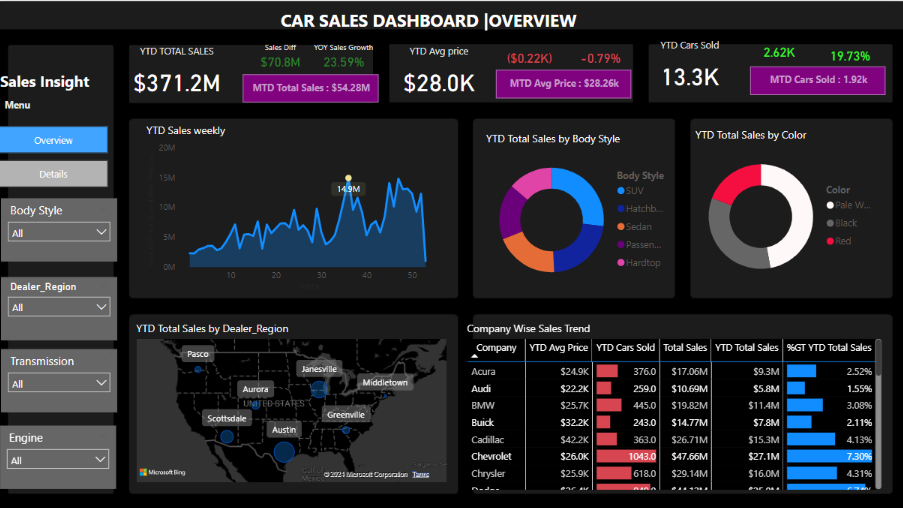

This screenshot's page, from the dashboard's own definition file:
{"tool":"powerbi","page":{"name":"Overview","canvas":[1280,720],"ordinal":0},"visuals":[{"type":"card","title":"YTD TOTAL SALES","fields":{"Values":["All formulas.YTD Total Sales"]},"box":[177.6,60.5,153.1,85],"z":0},{"type":"card","title":"Sales Diff","fields":{"Values":["All formulas.Sales Difference"]},"box":[359.1,56.7,83.2,39.7],"z":1000},{"type":"card","title":"YOY Sales Growth","fields":{"Values":["All formulas.YoY Sales Growth"]},"box":[441.8,57.1,96.7,38.5],"z":2000},{"type":"card","fields":{"Values":["All formulas.MTD KPI"]},"box":[347.3,103.3,191.2,39.6],"z":3000},{"type":"card","title":"YTD Avg price","fields":{"Values":["All formulas.YTD Avg Price"]},"box":[548,60.5,153.1,85],"z":4000},{"type":"card","title":"Sales Diff","fields":{"Values":["All formulas.Avg Price Diff"]},"box":[701.1,60.5,100.2,39.7],"z":5000},{"type":"card","title":"Sales Diff","fields":{"Values":["All formulas.Yoy Avg Price Growth"]},"box":[801.3,60.5,100.2,39.7],"z":6000},{"type":"card","fields":{"Values":["All formulas.MTD AVG KPI"]},"box":[704.9,96.4,190.9,39.7],"z":7000},{"type":"card","title":"YTD Cars Sold","fields":{"Values":["All formulas.YTD Cars Sold"]},"box":[901.4,52.9,153.1,85],"z":8000},{"type":"card","title":"Sales Diff","fields":{"Values":["All formulas.Car Sold Diff"]},"box":[1054.5,52.9,100.2,39.7],"z":9000},{"type":"card","title":"Sales Diff","fields":{"Values":["All formulas.Yoy Car Sold Growth"]},"box":[1154.7,56.7,100.2,39.7],"z":10000},{"type":"card","fields":{"Values":["All formulas.MTD Car Sold KPI"]},"box":[1063.9,92.6,190.9,39.7],"z":11000},{"type":"areaChart","title":"YTD Sales weekly","fields":{"Category":["Calendar Table.WEEK"],"Y":["Sum(car_data.Price ($))","All formulas.Max Point on Area Chart"]},"box":[206.2,171.8,420.1,242.1],"z":12000},{"type":"donutChart","fields":{"Category":["car_data.Body Style"],"Y":["All formulas.YTD Total Sales"]},"box":[685.6,182.7,273.3,231.1],"z":13000},{"type":"donutChart","fields":{"Y":["All formulas.YTD Total Sales"],"Category":["car_data.Color"]},"box":[980.8,178,273.3,231.1],"z":14000},{"type":"map","fields":{"Size":["All formulas.YTD Total Sales"],"Category":["car_data.Dealer_Region"]},"box":[192.1,451.4,448.2,232.7],"z":15000},{"type":"tableEx","title":"Company Wise Sales Trend","fields":{"Values":["car_data.Company","All formulas.YTD Avg Price","All formulas.YTD Cars Sold","All formulas.Total Sales","All formulas.YTD Total Sales","Divide(All formulas.YTD Total Sales, ScopedEval(All formulas.YTD Total Sales, []))"]},"box":[659.1,451.4,595.1,242.1],"z":16000},{"type":"textbox","box":[368.6,4.7,482.6,48.4],"z":17000},{"type":"slicer","fields":{"Values":["car_data.Body Style"]},"box":[6.8,277.5,164,89],"z":18000},{"type":"slicer","fields":{"Values":["car_data.Dealer_Region"]},"box":[6.8,388.4,164,89],"z":19000},{"type":"slicer","fields":{"Values":["car_data.Transmission"]},"box":[6.8,489.9,164,89],"z":20000},{"type":"slicer","fields":{"Values":["car_data.Engine"]},"box":[5.2,597.7,164,89],"z":21000},{"type":"textbox","box":[0,92.1,171.4,39.7],"z":22000},{"type":"textbox","box":[6.3,131.7,154,41.3],"z":23000},{"type":"pageNavigator","box":[3.1,176.5,154.6,87.5],"z":24000}]}

Visuals, with their boxes on the page's 1280x720 design canvas (x1, y1, x2, y2). These are canvas units, not pixel positions in the 903x508 screenshot, which may show the page scaled, cropped or inside an application window:
"YTD TOTAL SALES" card: select_region(178, 60, 331, 146)
"Sales Diff" card: select_region(359, 57, 442, 96)
"YOY Sales Growth" card: select_region(442, 57, 538, 96)
card - All formulas.MTD KPI: select_region(347, 103, 538, 143)
"YTD Avg price" card: select_region(548, 60, 701, 146)
"Sales Diff" card: select_region(701, 60, 801, 100)
"Sales Diff" card: select_region(801, 60, 902, 100)
card - All formulas.MTD AVG KPI: select_region(705, 96, 896, 136)
"YTD Cars Sold" card: select_region(901, 53, 1054, 138)
"Sales Diff" card: select_region(1054, 53, 1155, 93)
"Sales Diff" card: select_region(1155, 57, 1255, 96)
card - All formulas.MTD Car Sold KPI: select_region(1064, 93, 1255, 132)
"YTD Sales weekly" areaChart: select_region(206, 172, 626, 414)
donutChart - car_data.Body Style x All formulas.YTD Total Sales: select_region(686, 183, 959, 414)
donutChart - All formulas.YTD Total Sales x car_data.Color: select_region(981, 178, 1254, 409)
map - All formulas.YTD Total Sales x car_data.Dealer_Region: select_region(192, 451, 640, 684)
"Company Wise Sales Trend" tableEx: select_region(659, 451, 1254, 694)
textbox: select_region(369, 5, 851, 53)
slicer - car_data.Body Style: select_region(7, 278, 171, 366)
slicer - car_data.Dealer_Region: select_region(7, 388, 171, 477)
slicer - car_data.Transmission: select_region(7, 490, 171, 579)
slicer - car_data.Engine: select_region(5, 598, 169, 687)
textbox: select_region(0, 92, 171, 132)
textbox: select_region(6, 132, 160, 173)
pageNavigator: select_region(3, 176, 158, 264)
